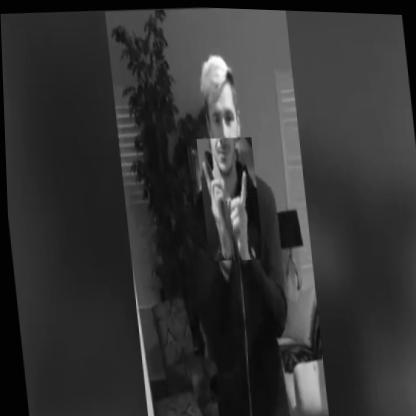NiceToMeetYou: (195, 134, 263, 261)
